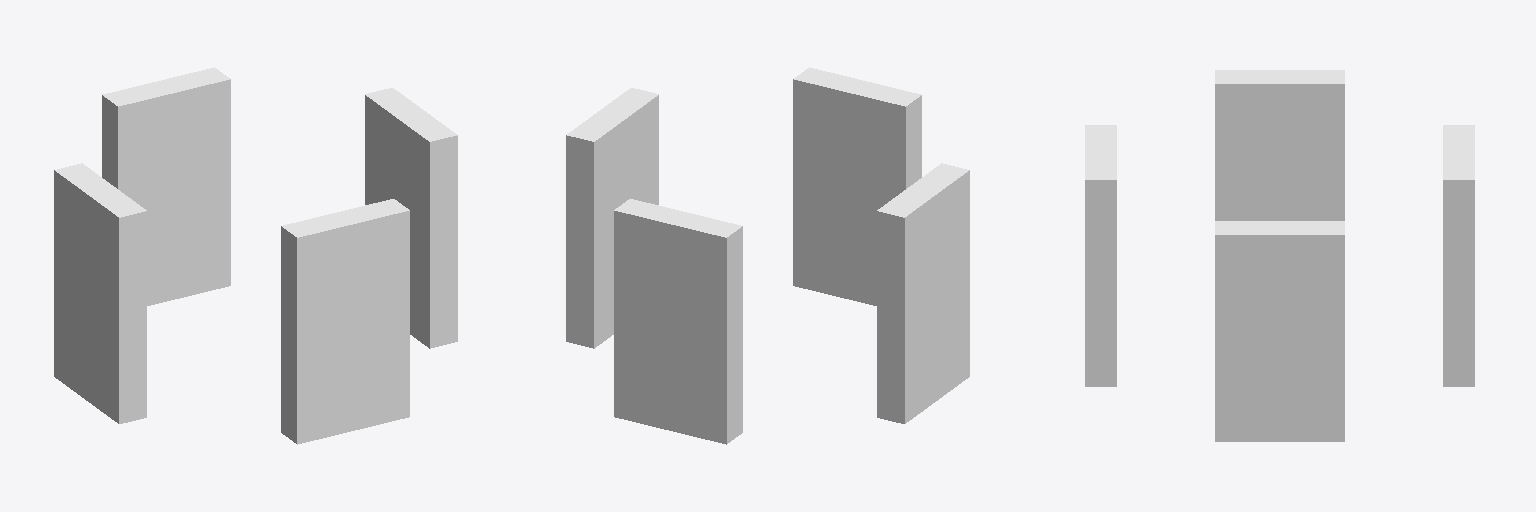
The model's file is Capsule_EscapePod_Doors.obj.
The picture shows the model from 3 angles: view 1: azimuth 30°, elevation 25°; view 2: azimuth 150°, elevation 25°; view 3: azimuth 270°, elevation 25°; orthographic projection.
Visible parts, largest first — view 1: Capsule_EscapePod_Doors; view 2: Capsule_EscapePod_Doors; view 3: Capsule_EscapePod_Doors.
Boxes of the visible parts, <box> form: Capsule_EscapePod_Doors: <box>54,67,457,444</box>; Capsule_EscapePod_Doors: <box>566,67,969,444</box>; Capsule_EscapePod_Doors: <box>1085,70,1474,441</box>.
Size of the model in its own units: 12 by 7 by 12.